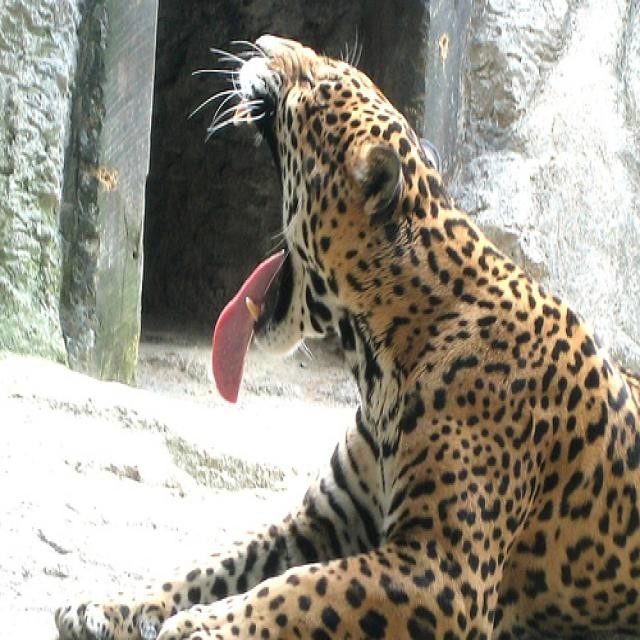Leopard: (50, 21, 637, 636)
